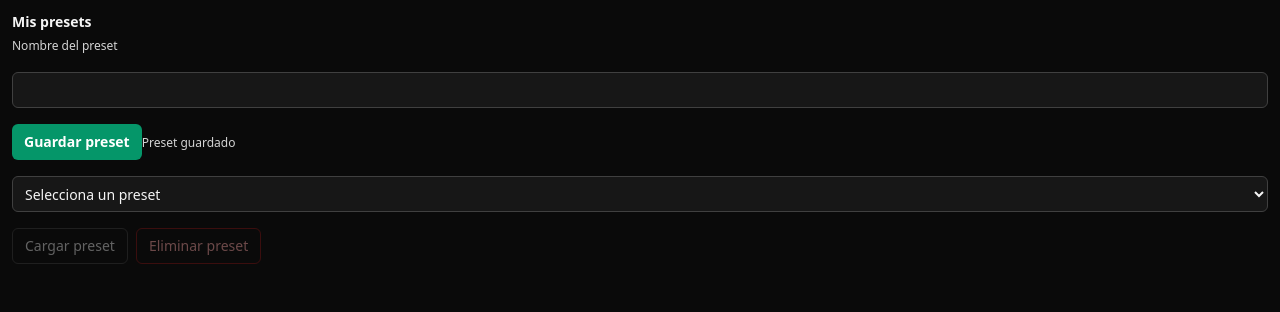
Test: PresetsBasicTab › renders labelled real controls and saves/loads through the shared context
The image size is (1280, 312).
Expected: the dropdown labelled "Preset guardado" is shown, [12,176,1268,212]
Type "Mi look" into the field labelled "Nombre del preset" at (640, 90), box [12,72,1268,108]
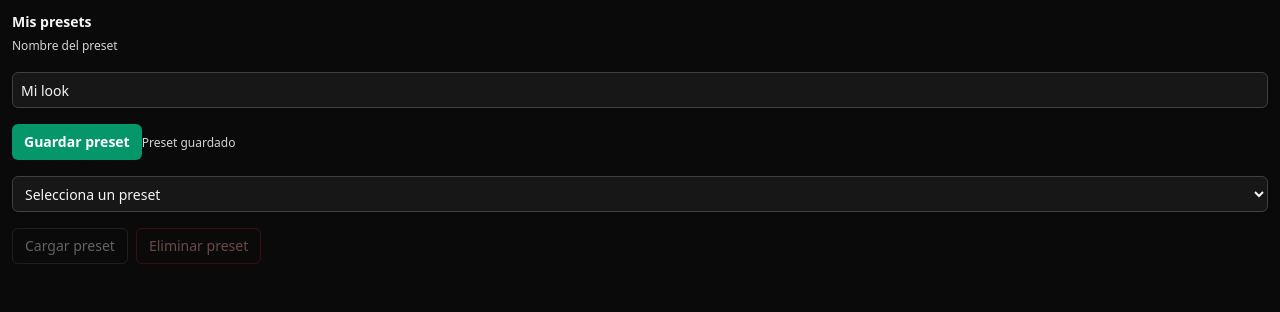
Click the button "Guardar preset" at (77, 142), box [12,124,142,160]
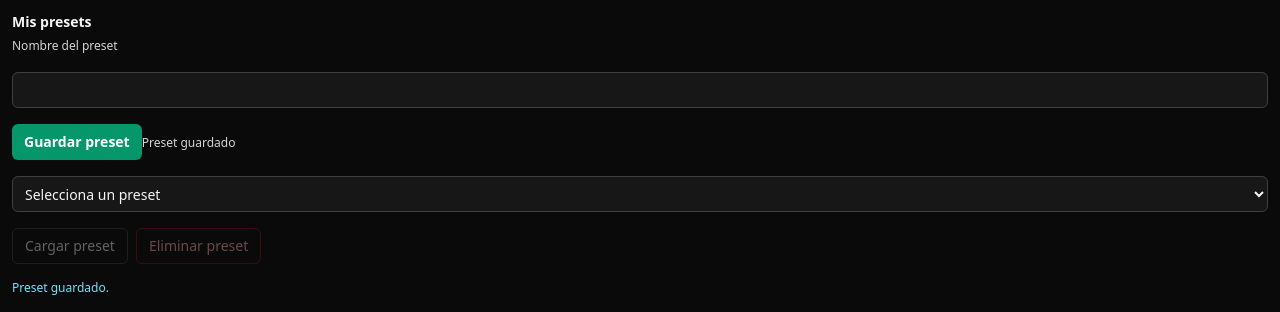
Select "Mi look" in the dropdown labelled "Preset guardado" at (640, 194), box [12,176,1268,212]
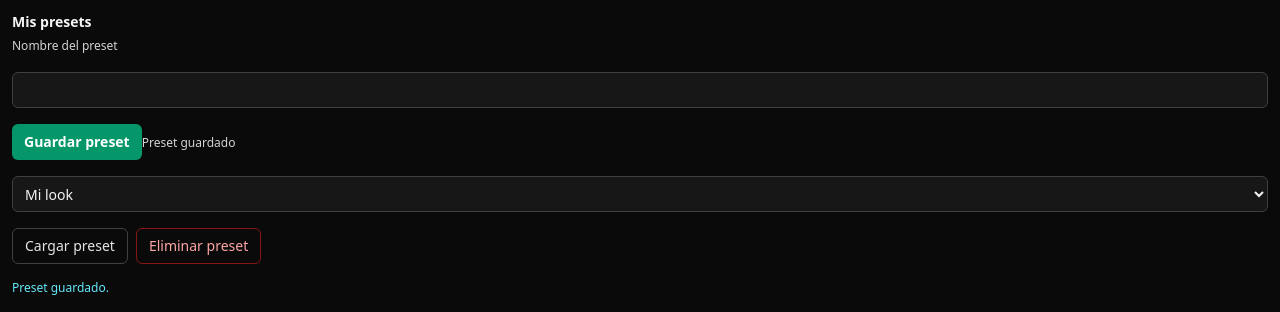
Expected: the button "Cargar preset" is enabled, [12,228,128,264]
